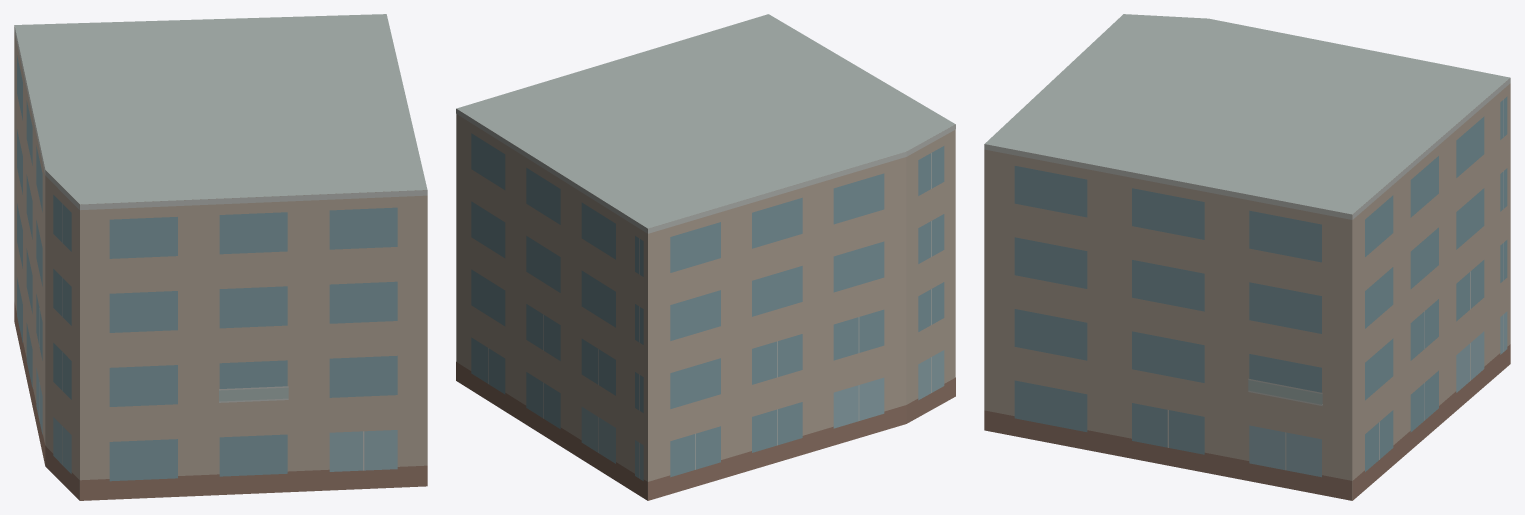
The model's file is survey-upis-32994042.glb.
3 renders of one model, left to right at view 1: azimuth 30°, elevation 25°; view 2: azimuth 150°, elevation 25°; view 3: azimuth 270°, elevation 25°, orthographic. The views are drawn at different scales.
Parts seen in each view (by area): view 1: survey-upis-32994042.tmp; view 2: survey-upis-32994042.tmp; view 3: survey-upis-32994042.tmp.
Boxes of the visible parts, box(x1,y1,x2,y2) form: survey-upis-32994042.tmp: box(14, 14, 427, 500); survey-upis-32994042.tmp: box(456, 14, 955, 500); survey-upis-32994042.tmp: box(984, 14, 1510, 500).
Bounding box in the file's own units: 19.08 × 12.7 × 21.16.
